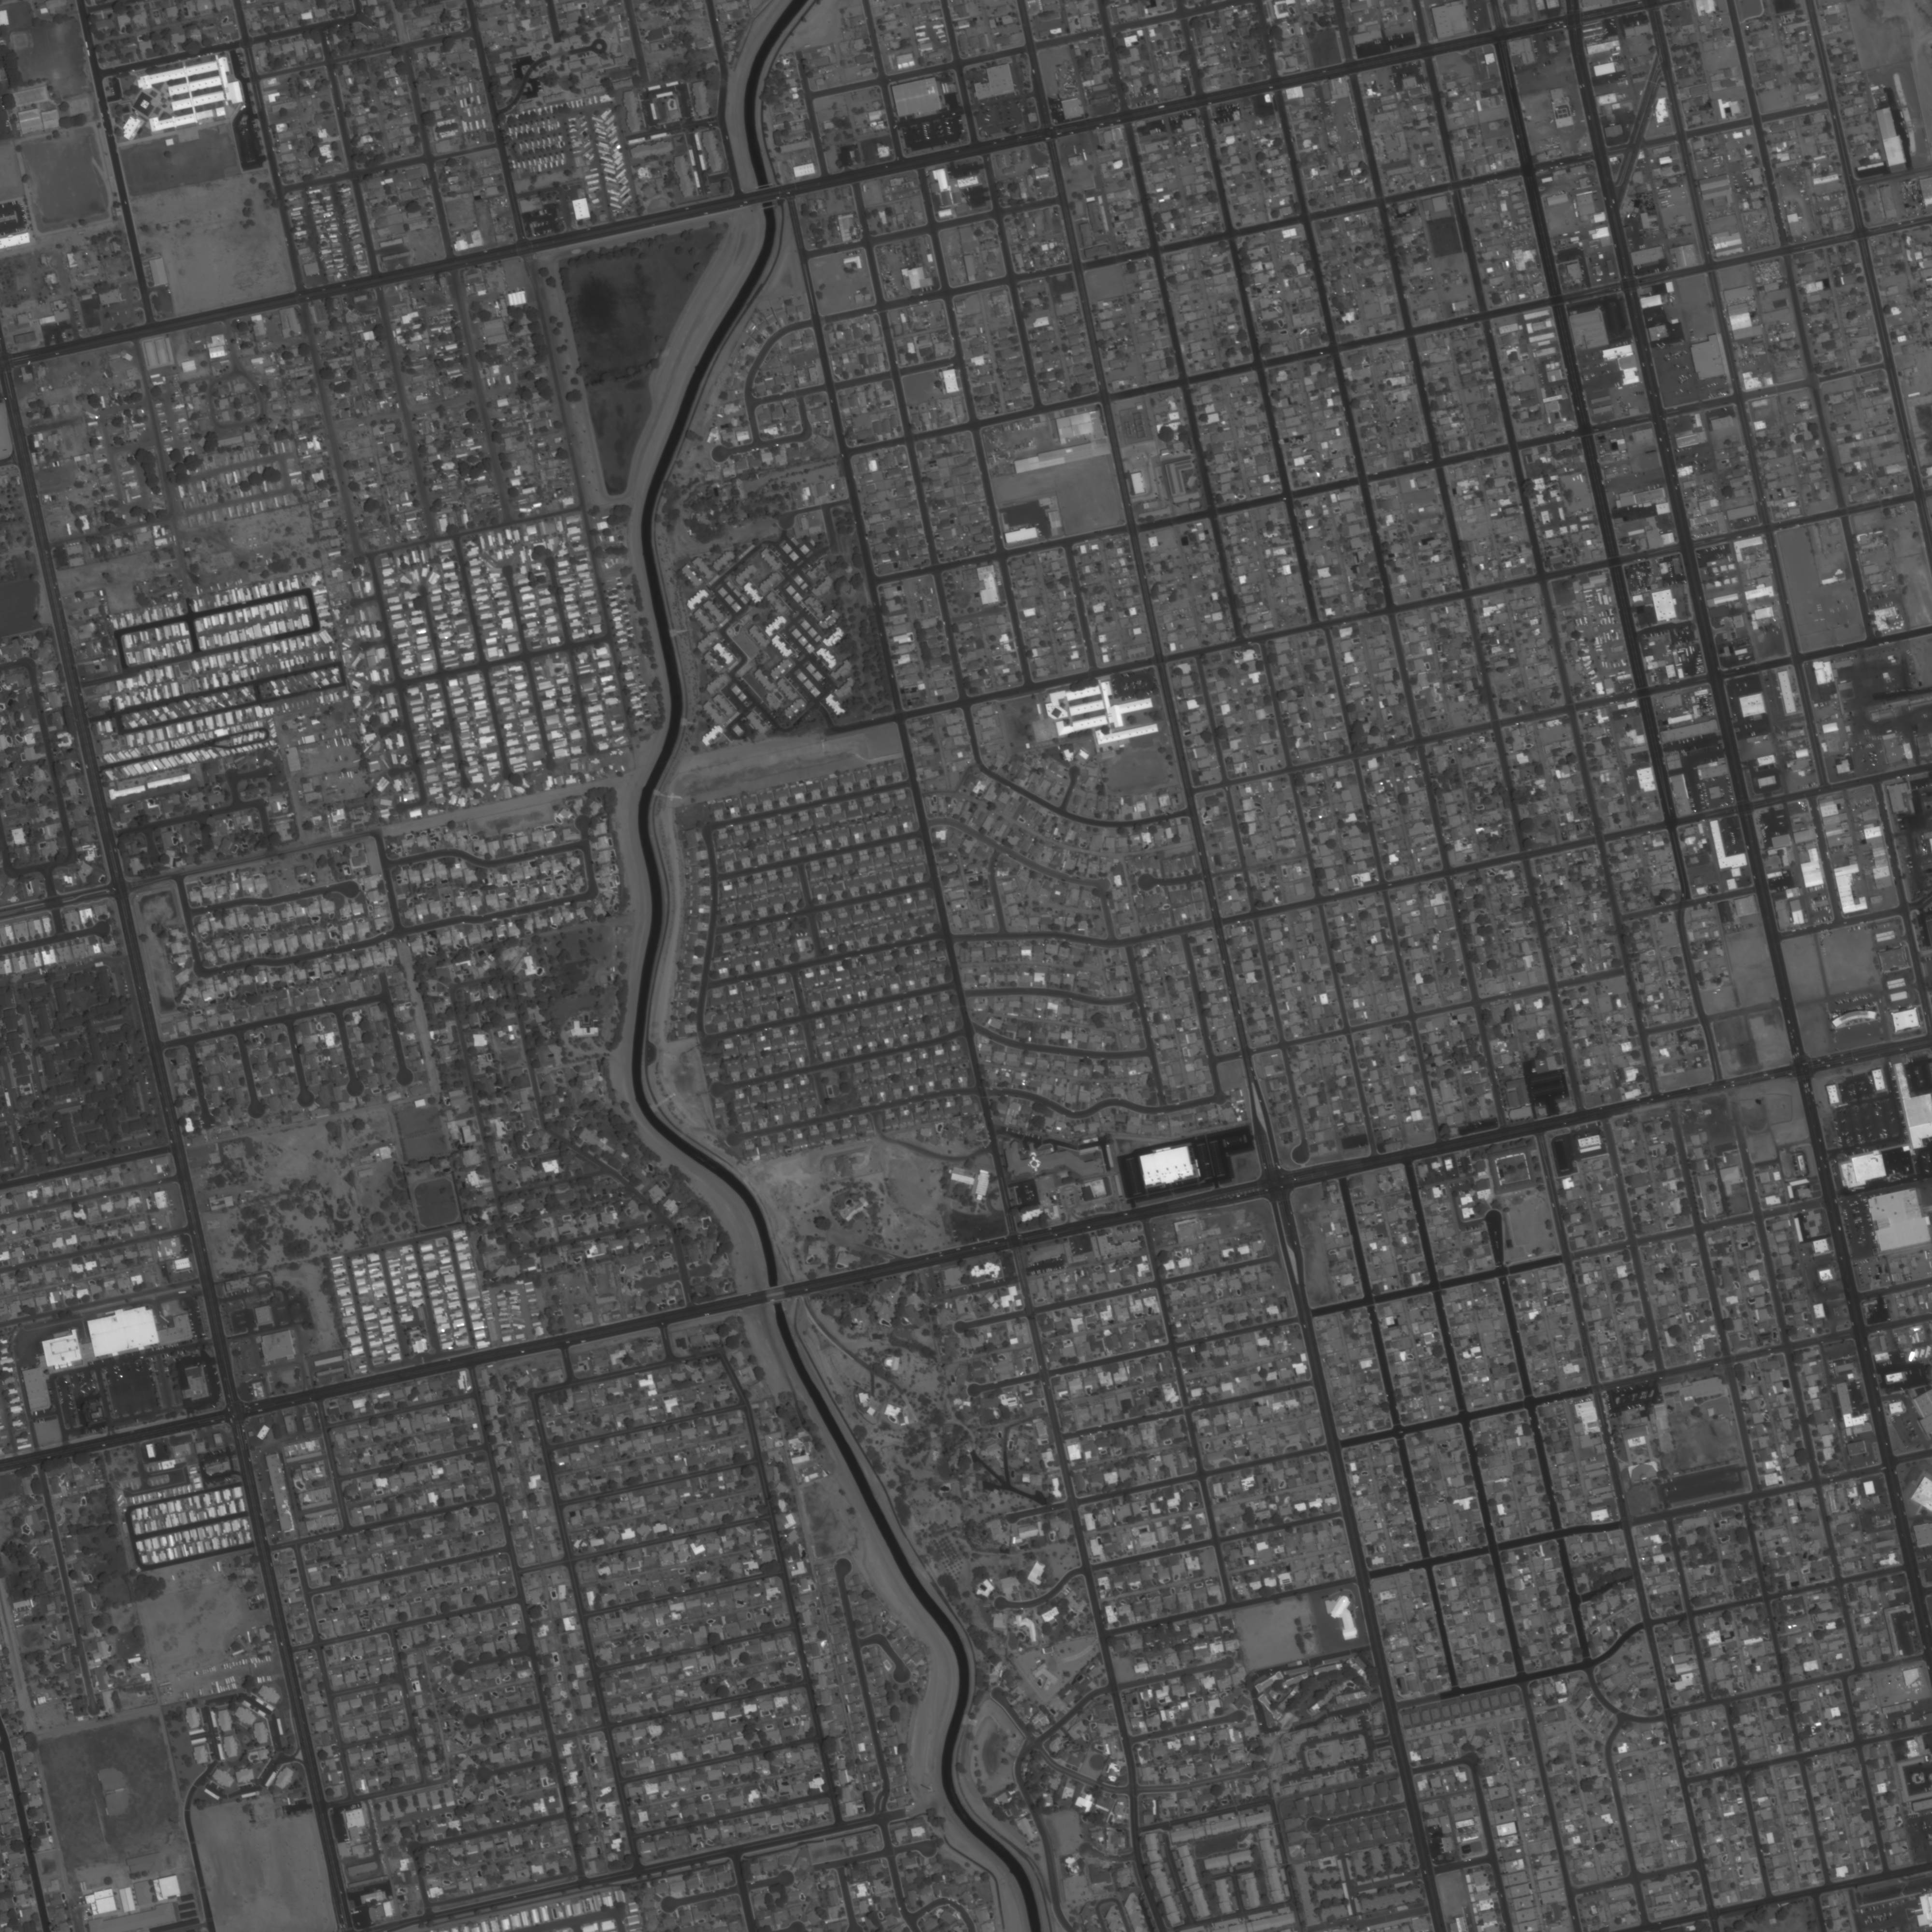baseball diamond: (92, 1759, 134, 1794), (103, 1787, 136, 1821)
bridge: (761, 1279, 791, 1311), (750, 182, 782, 211)
